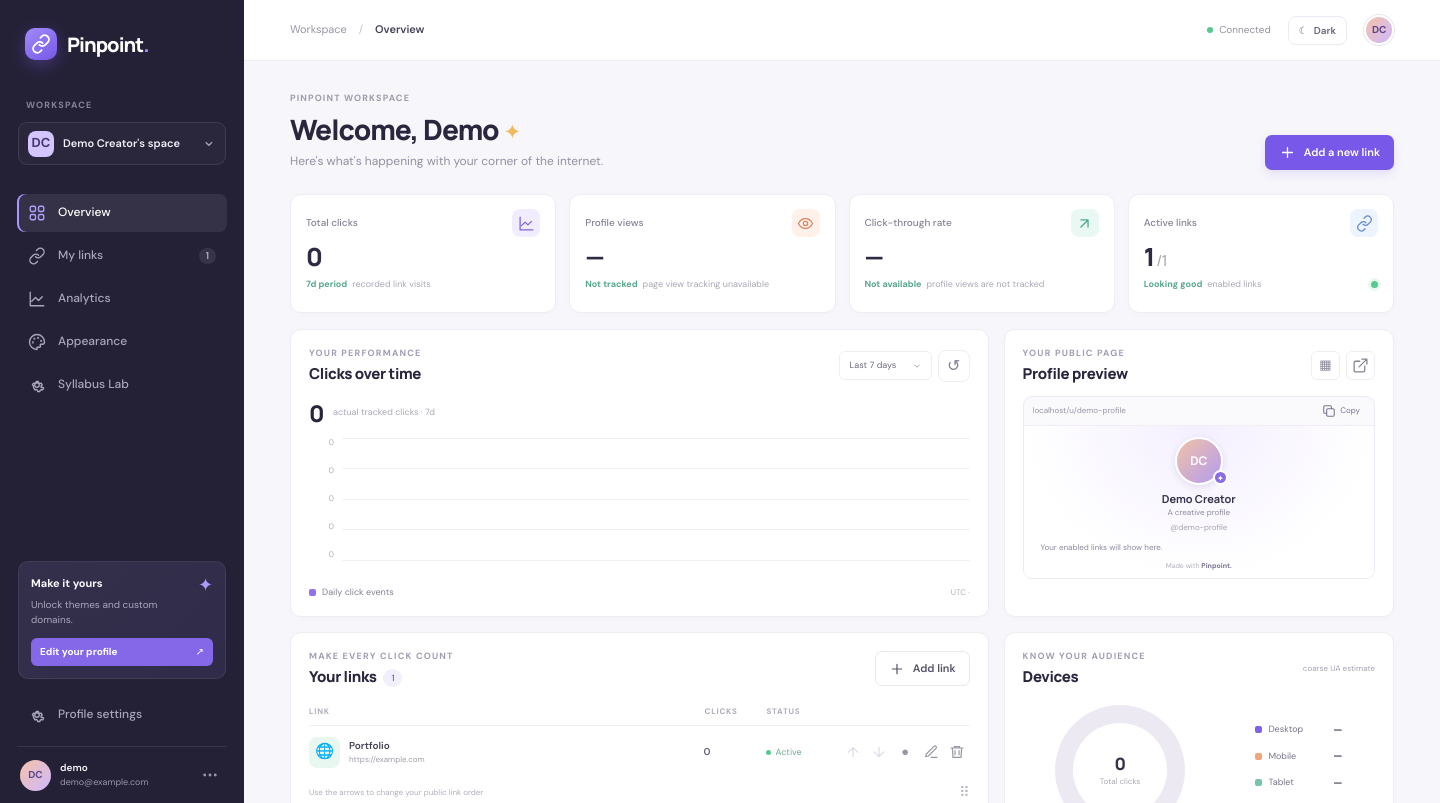
Test: Pinpoint application flows › previews unsaved appearance settings in mobile and desktop without publishing
Click the button "Appearance" at (122, 342), box [17, 323, 227, 361]
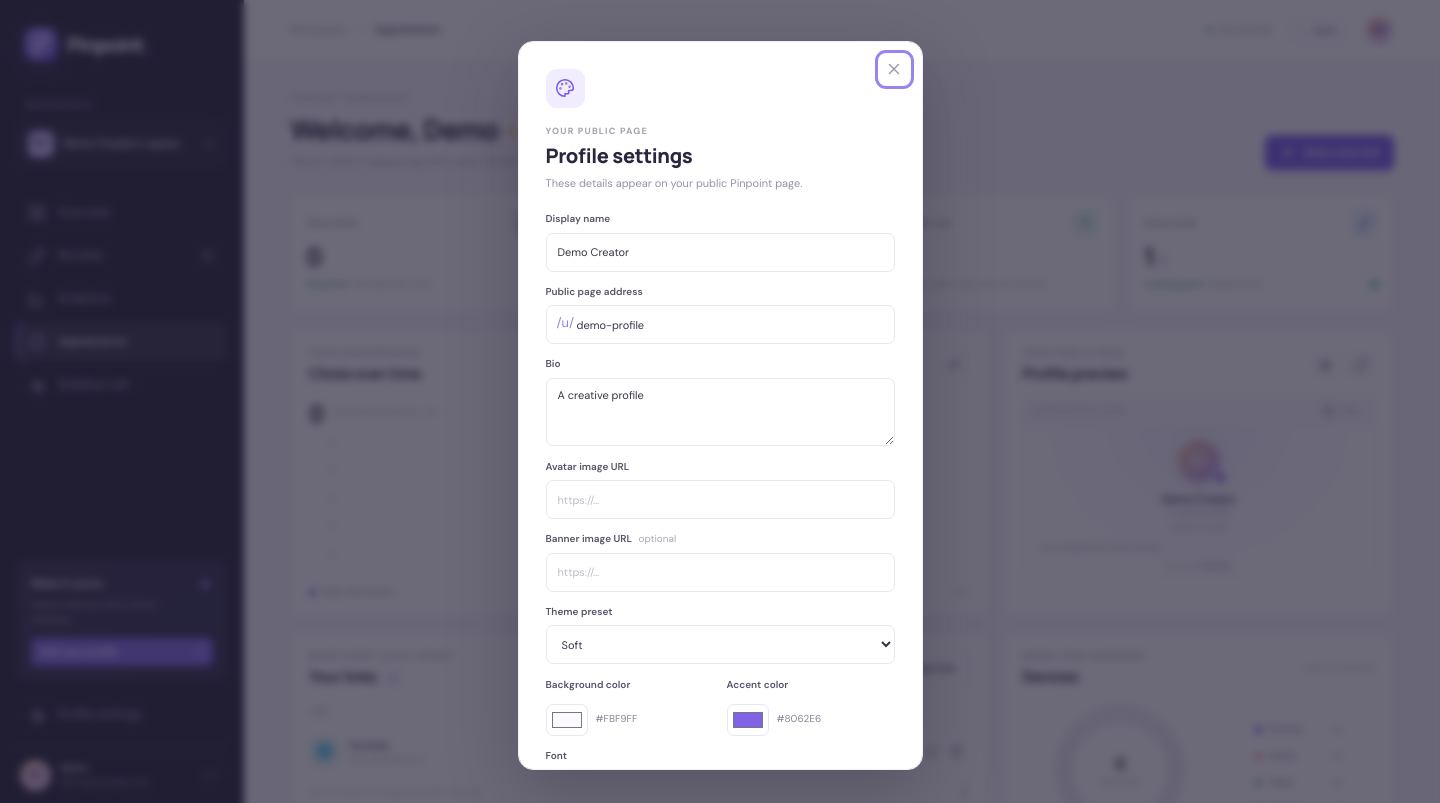
Replace the text in the field labelled "Display name" with "Draft Creator" at (720, 252), box [546, 233, 894, 272]
(page scrolled)
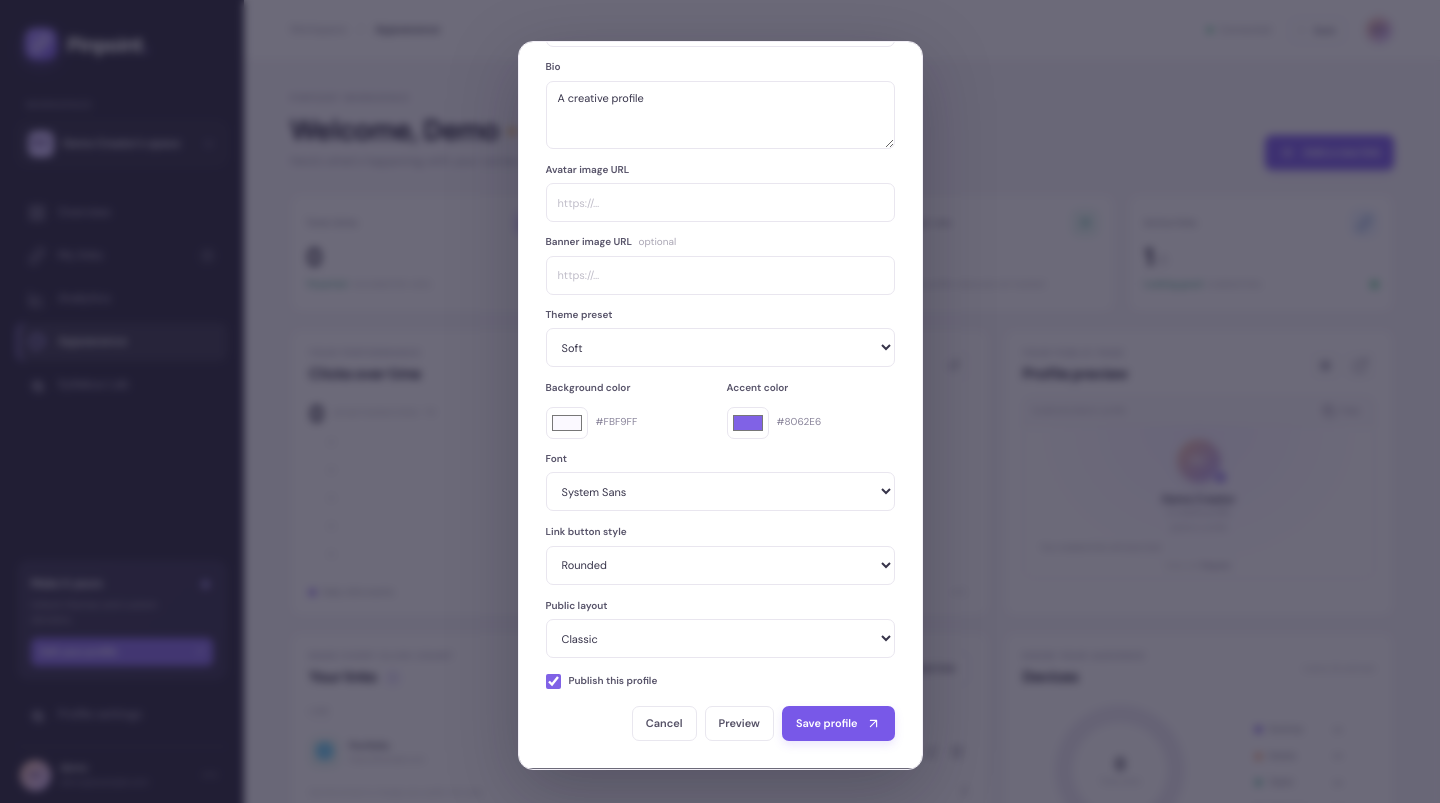
Select "Portfolio" in the dropdown labelled "Public layout" at (720, 639), box [546, 619, 894, 658]
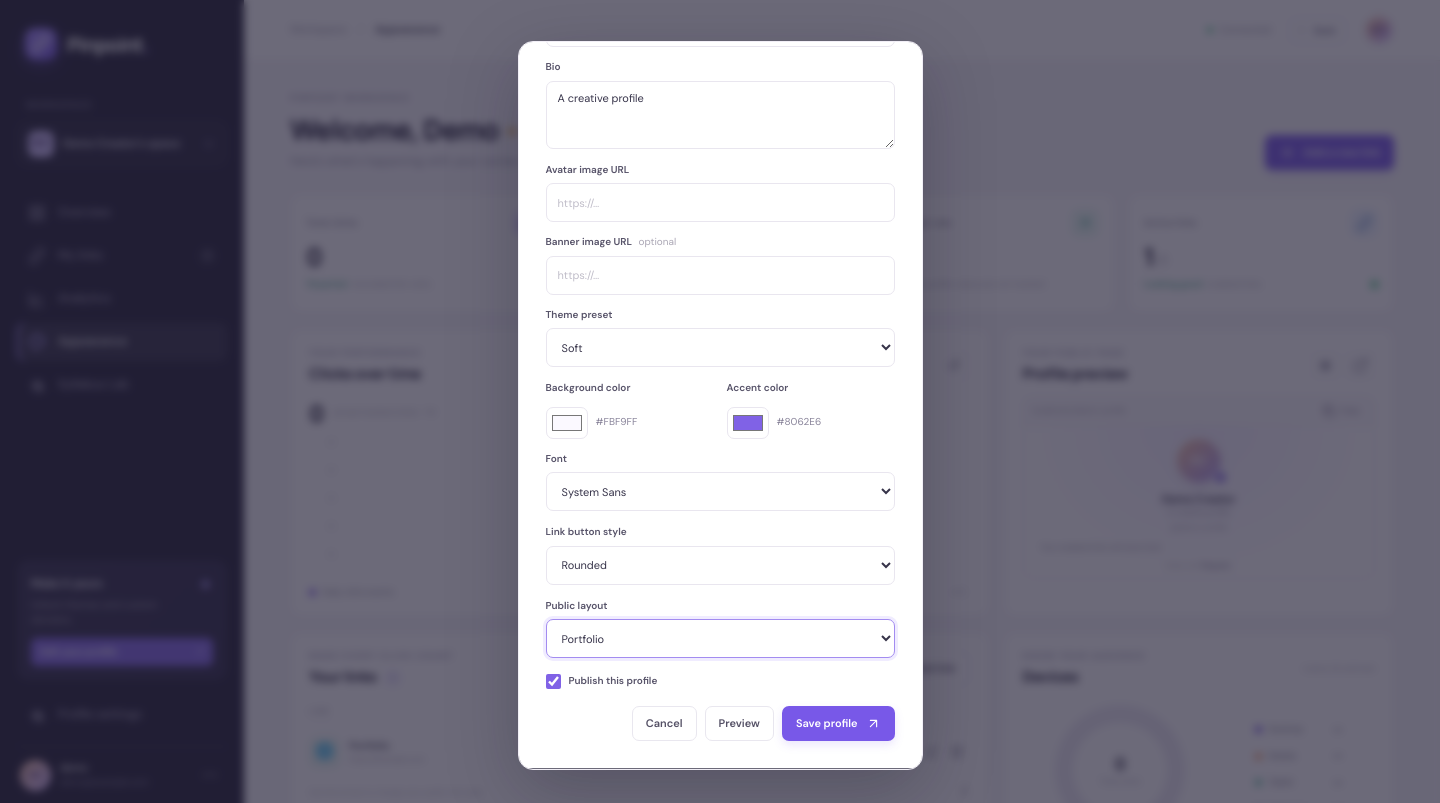
Click the button "Preview" at (739, 724), box [705, 706, 774, 741]
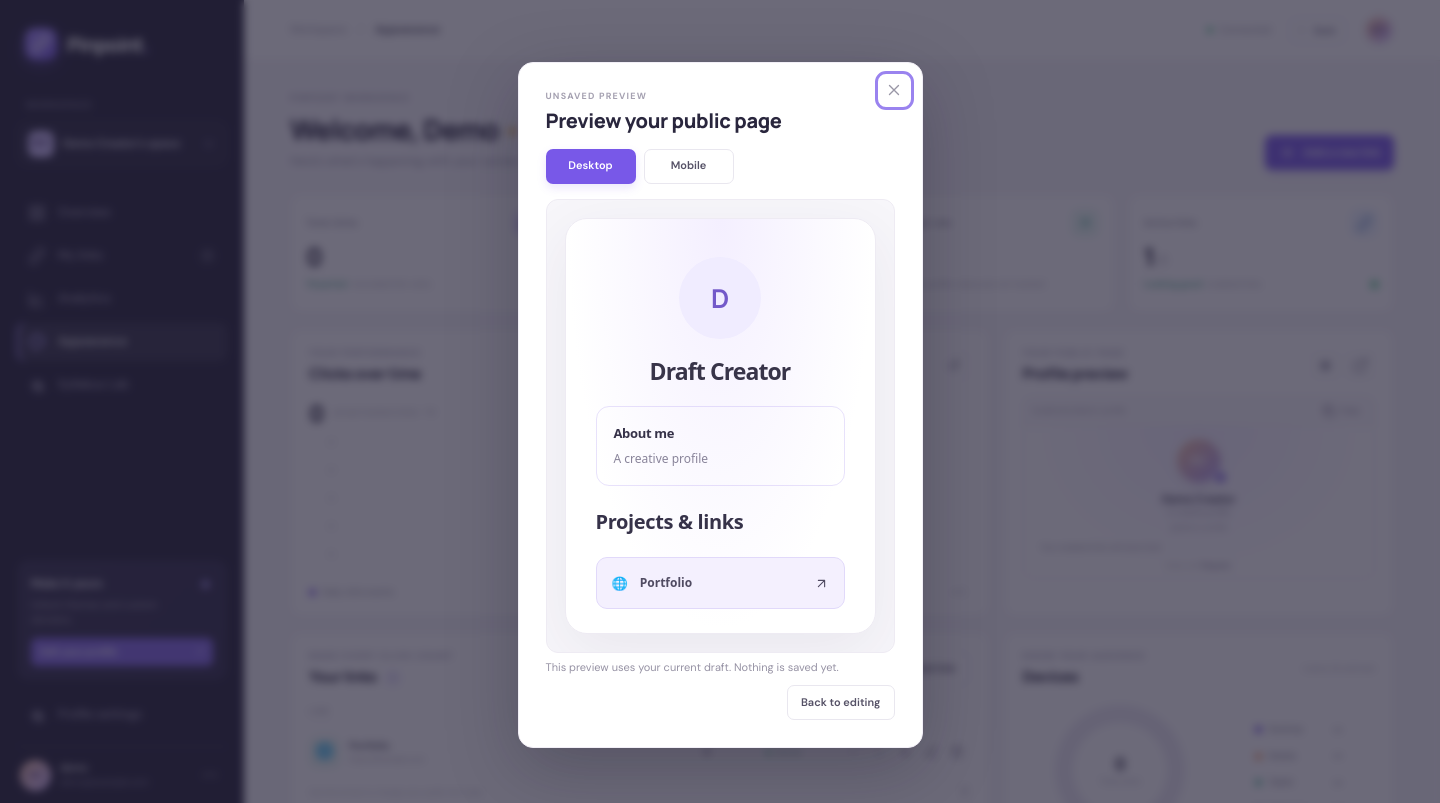
Result: the heading "Draft Creator" is shown at [650, 355, 790, 387]
Result: the heading "Projects & links" is shown at [596, 508, 743, 535]
Click the button "Mobile" at (688, 166), box [644, 149, 734, 184]
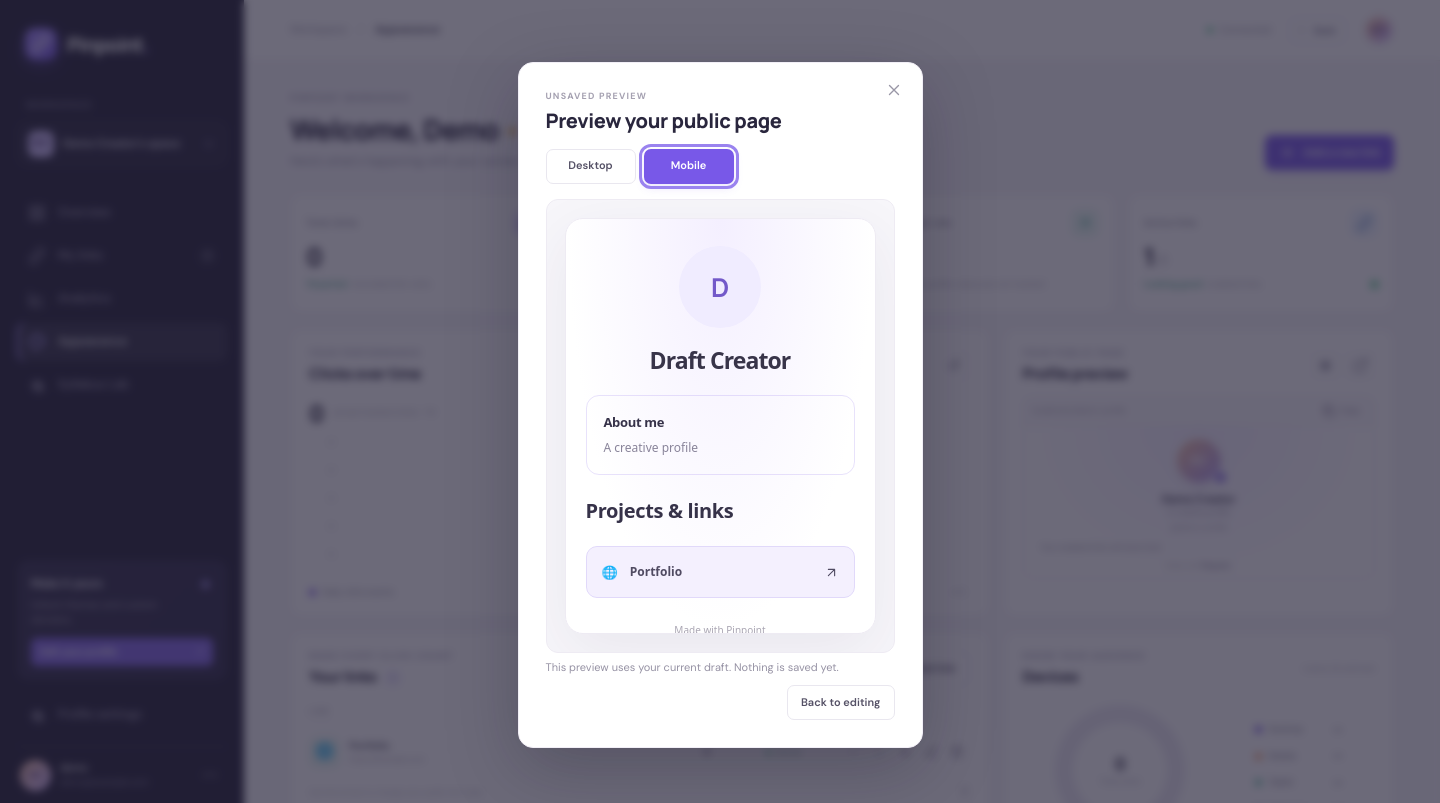
Result: the button with class "layout-portfolio" is shown at [564, 218, 876, 634]
Click the button "Back to editing" at (841, 703), box [787, 685, 894, 720]
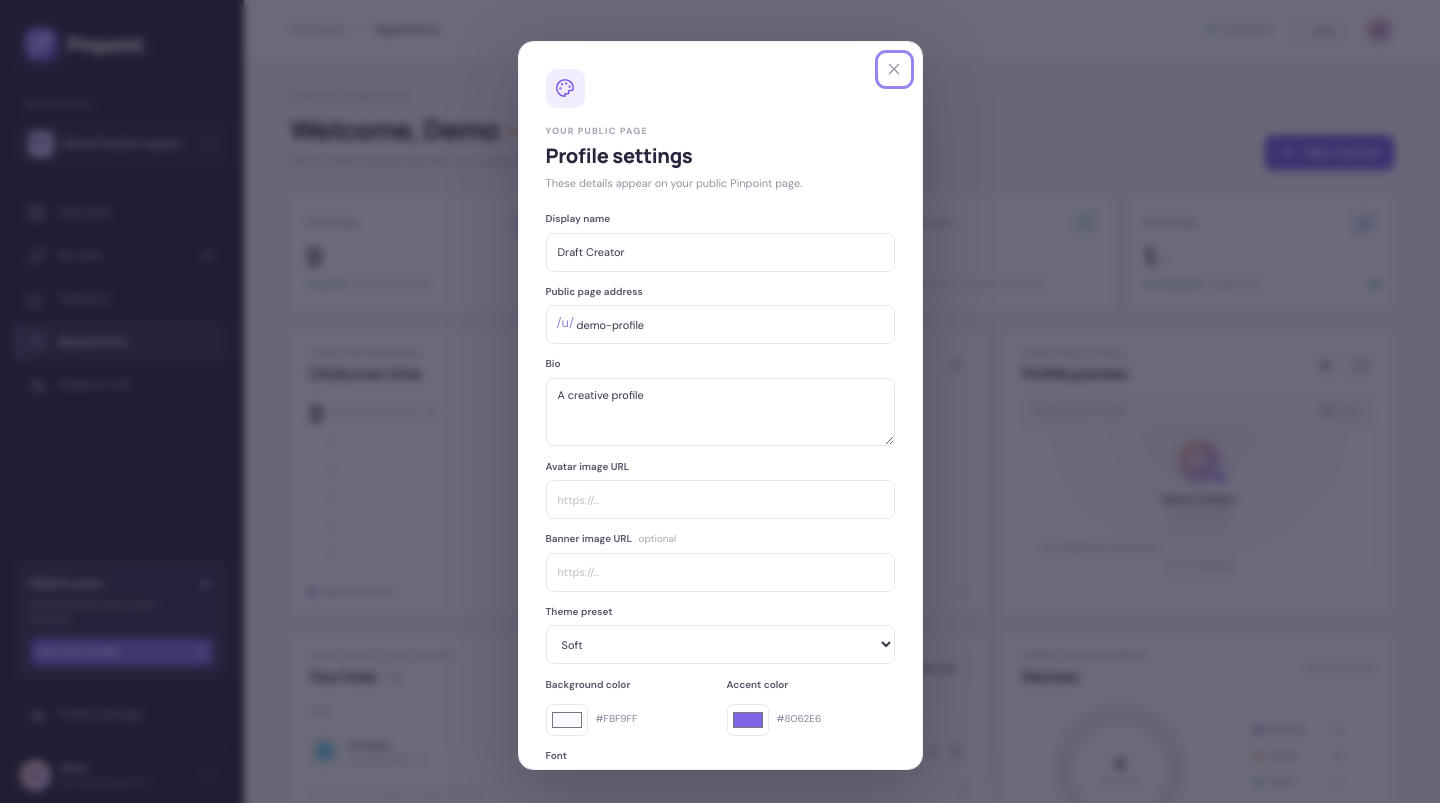
Result: the field labelled "Display name" holds "Draft Creator" at [546, 233, 894, 272]
